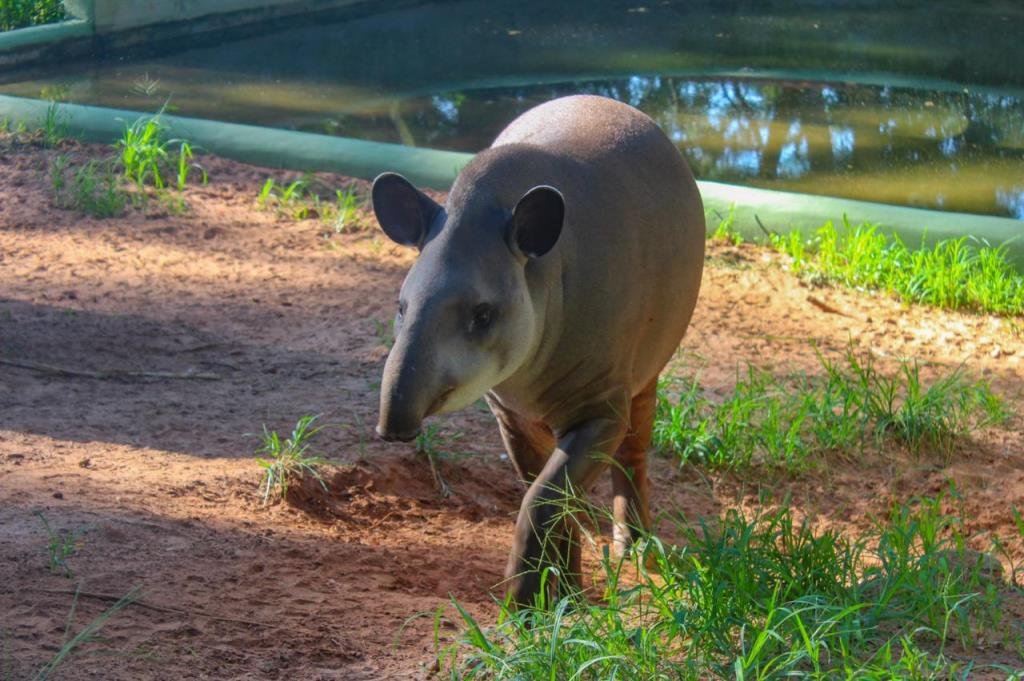Anta: (363, 84, 713, 630)
